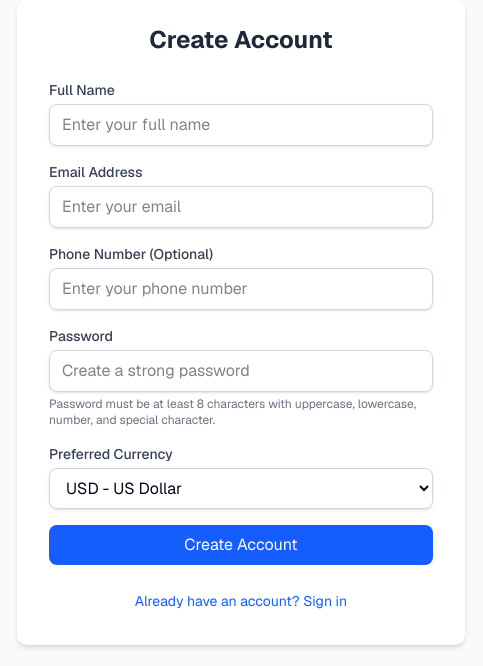
it: RegisterForm › should show loading state during submission
Type "John Doe" into the field labelled "Full Name" at (241, 125), box [49,104,433,146]
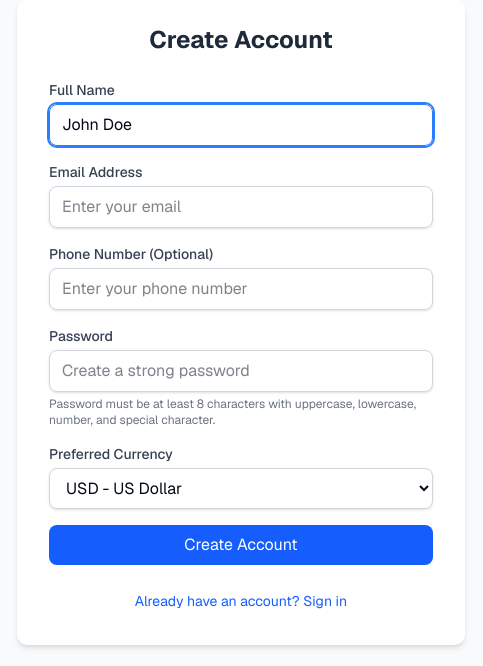
Type "john@example.com" into the field labelled "Email Address" at (241, 207), box [49,186,433,228]
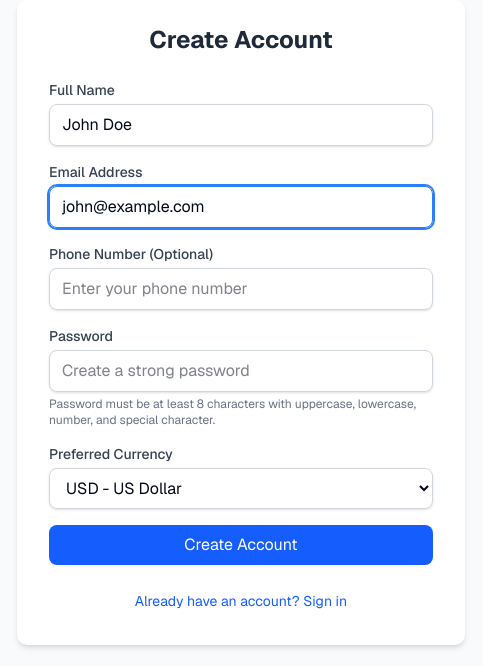
Type "Password123!" into the password field labelled "Password" at (241, 371), box [49,350,433,392]
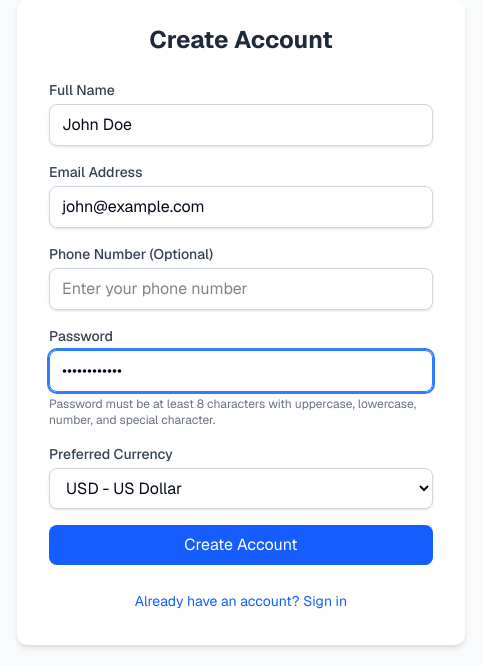
Click the button "Create Account" at (241, 545), box [49,525,433,565]
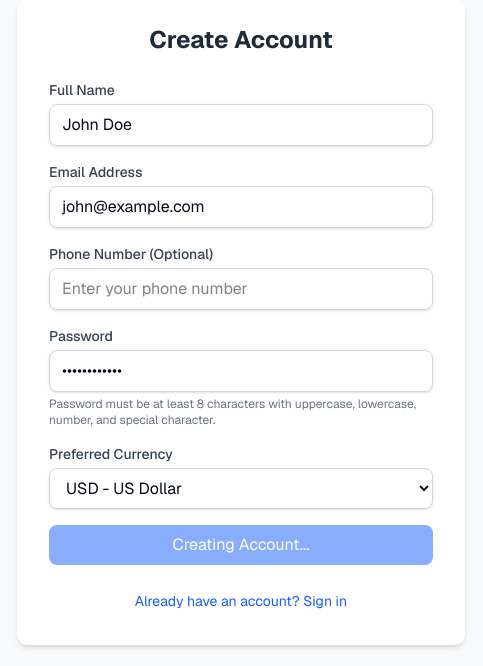
expect the button "Creating Account..." is disabled: met, box [49,525,433,565]
